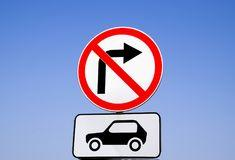no_right_turn: (76, 25, 163, 110)
